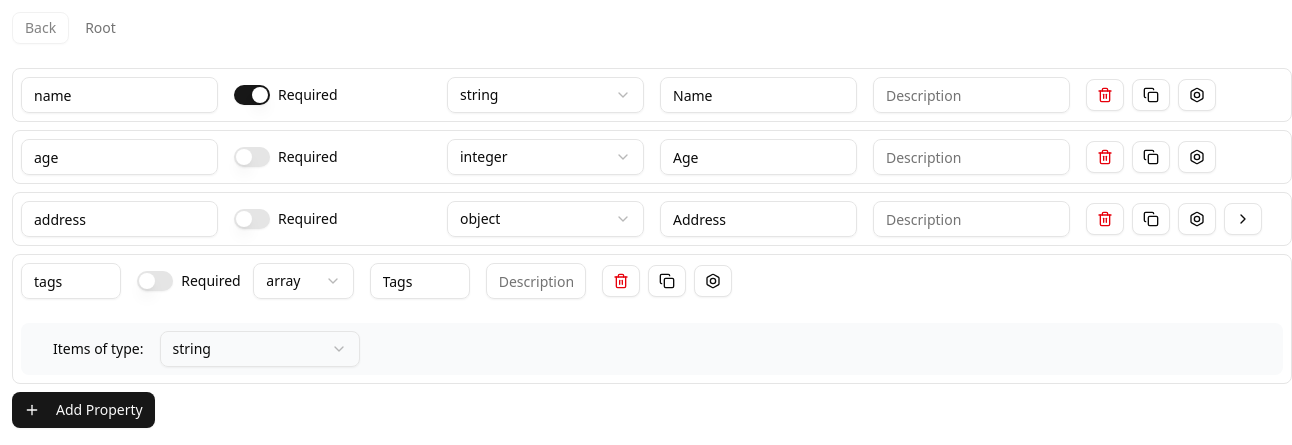
Test: SchemaBuilder › Navigation › navigates using breadcrumbs
Click the button named "navigate". click: (1243, 219)
box: [1224,203,1262,235]
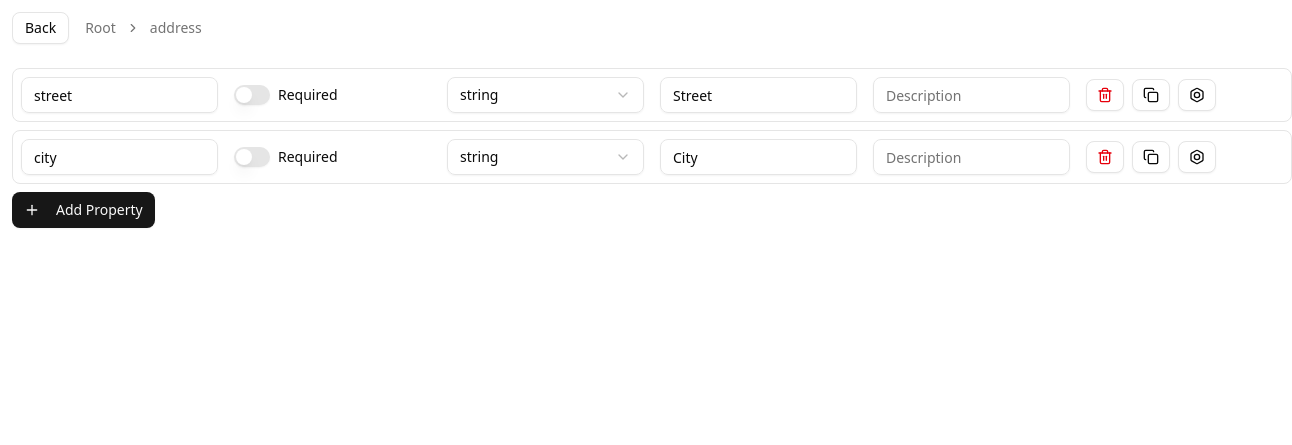
Click Root breadcrumb
Click the link "Root". click: (101, 28)
box: [85,18,116,38]
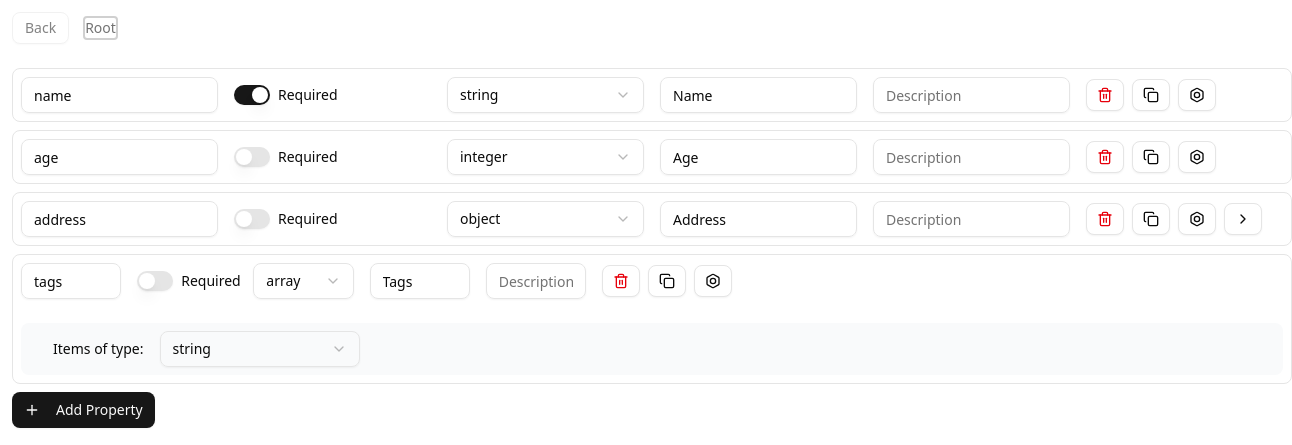
Expected: the field showing "street" is not shown
Expected: the field showing "name" is shown, [21,77,218,113]
